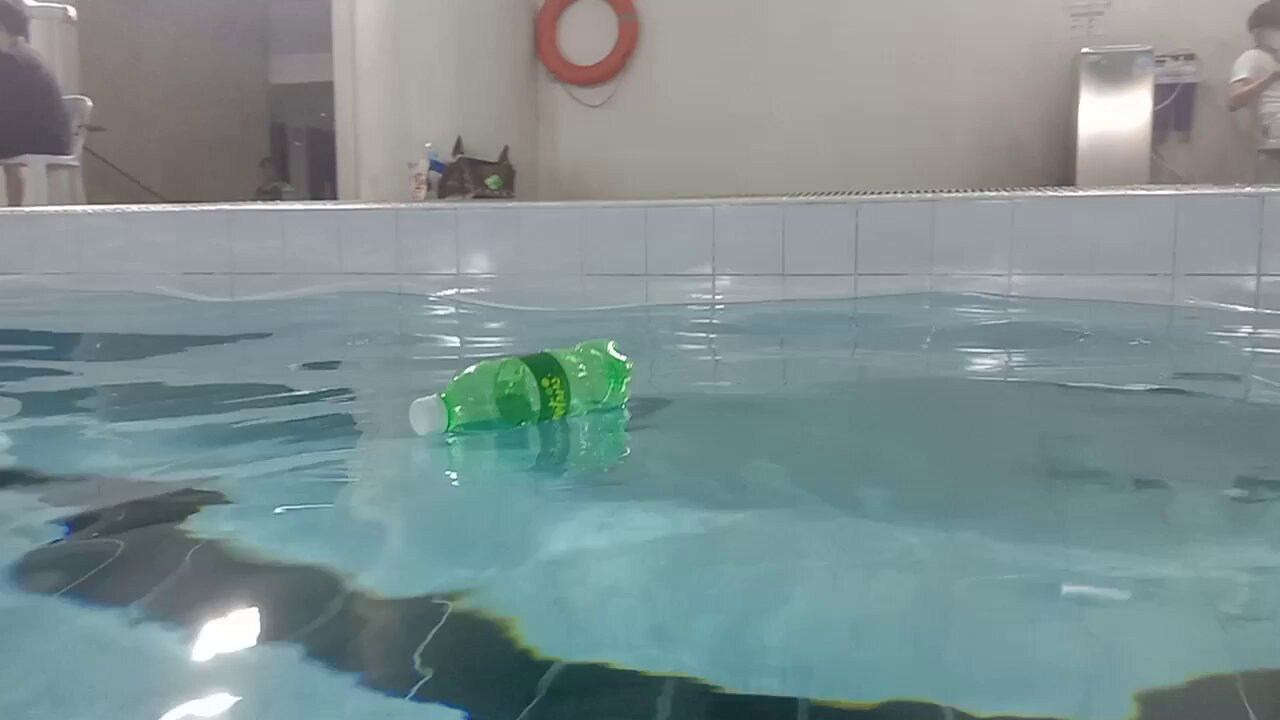plastic_bottle: (410, 338, 636, 438)
